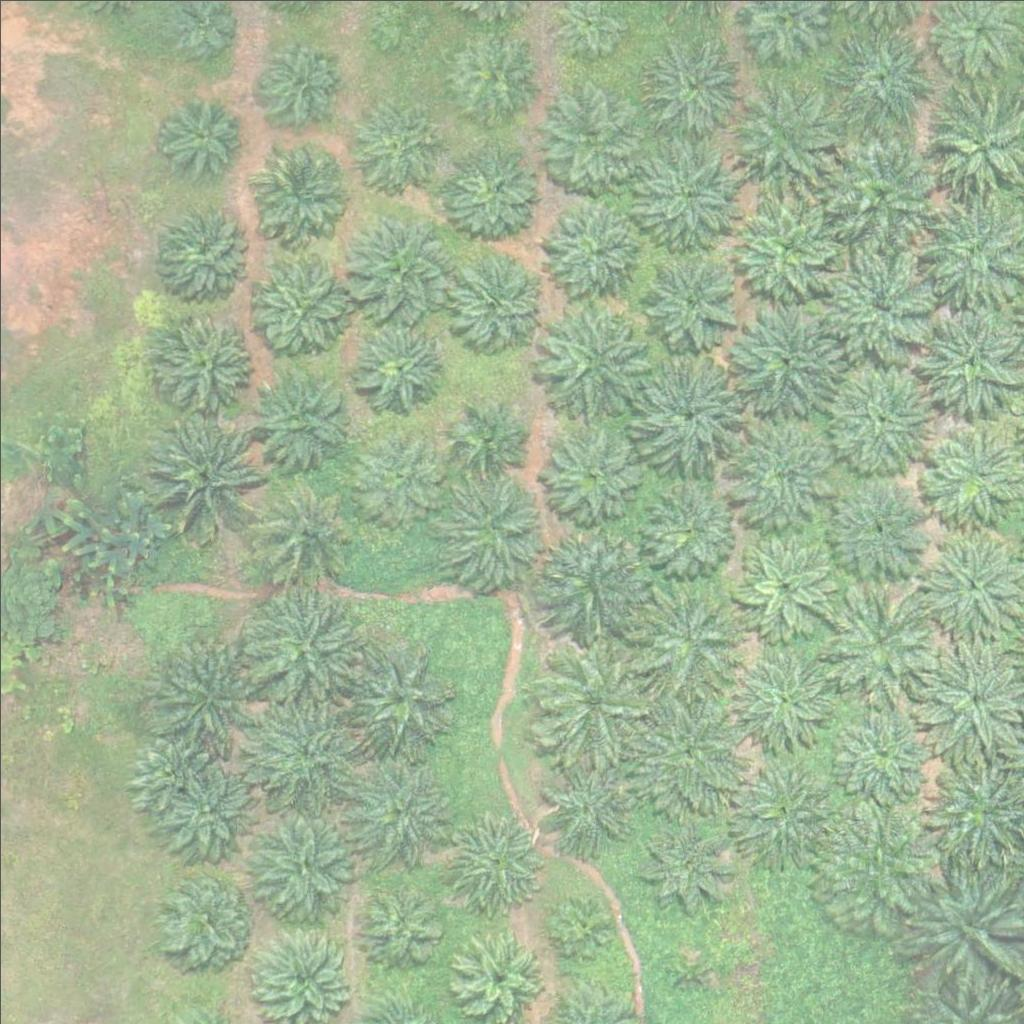Kelapa_Sawit: (820, 808, 933, 922), (908, 869, 1021, 983), (539, 645, 652, 759), (435, 471, 548, 585), (243, 250, 356, 364), (345, 211, 458, 325), (243, 803, 356, 916), (825, 693, 938, 806), (821, 586, 934, 699), (824, 472, 937, 585), (721, 418, 834, 531), (729, 308, 842, 421), (250, 692, 363, 805), (148, 630, 261, 743), (628, 133, 741, 246), (727, 187, 840, 300), (731, 760, 843, 874), (727, 645, 839, 759), (632, 693, 744, 807), (635, 585, 747, 699), (535, 532, 647, 646), (538, 417, 650, 531), (146, 415, 258, 528), (630, 806, 742, 919), (826, 358, 938, 471), (825, 246, 937, 359), (634, 365, 746, 478), (536, 300, 648, 413), (342, 641, 454, 754), (246, 588, 358, 701), (241, 357, 353, 470), (726, 76, 838, 189), (823, 136, 935, 249), (827, 24, 939, 137), (248, 479, 348, 580), (348, 756, 448, 857), (446, 811, 546, 912), (735, 539, 835, 640), (640, 248, 740, 349), (540, 752, 640, 853), (154, 313, 254, 414), (341, 94, 441, 195), (443, 145, 543, 246), (439, 26, 539, 127), (543, 200, 643, 301), (542, 88, 642, 189), (642, 39, 742, 140), (639, 483, 739, 583), (450, 250, 550, 350), (348, 427, 448, 527), (351, 315, 451, 415), (152, 200, 252, 300), (251, 140, 351, 240), (356, 878, 444, 967), (159, 88, 247, 176), (158, 873, 245, 961), (165, 766, 252, 854), (130, 726, 217, 814), (258, 36, 345, 124), (452, 405, 527, 481), (549, 895, 612, 958), (673, 955, 710, 993)
